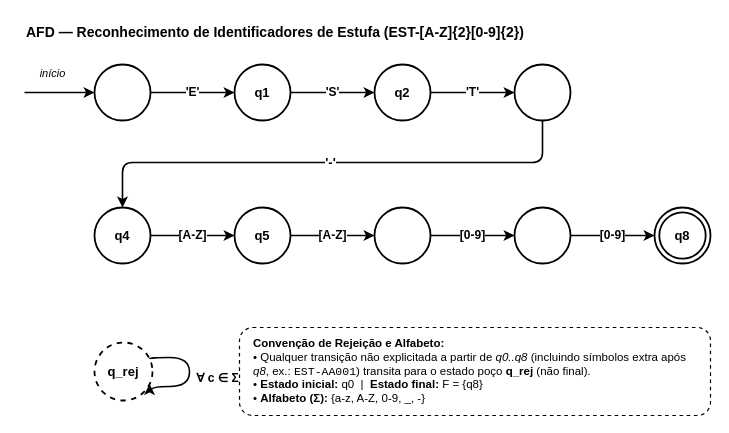
Some shapes in this 729 by 433 pixel diagram are drawn without their labels. The shapes that lost their labels are listed below. From the top down, each one's centre as x and y in pixels, then its label:
pixel 122 92: q0
pixel 542 92: q3
pixel 402 235: q6
pixel 542 235: q7
